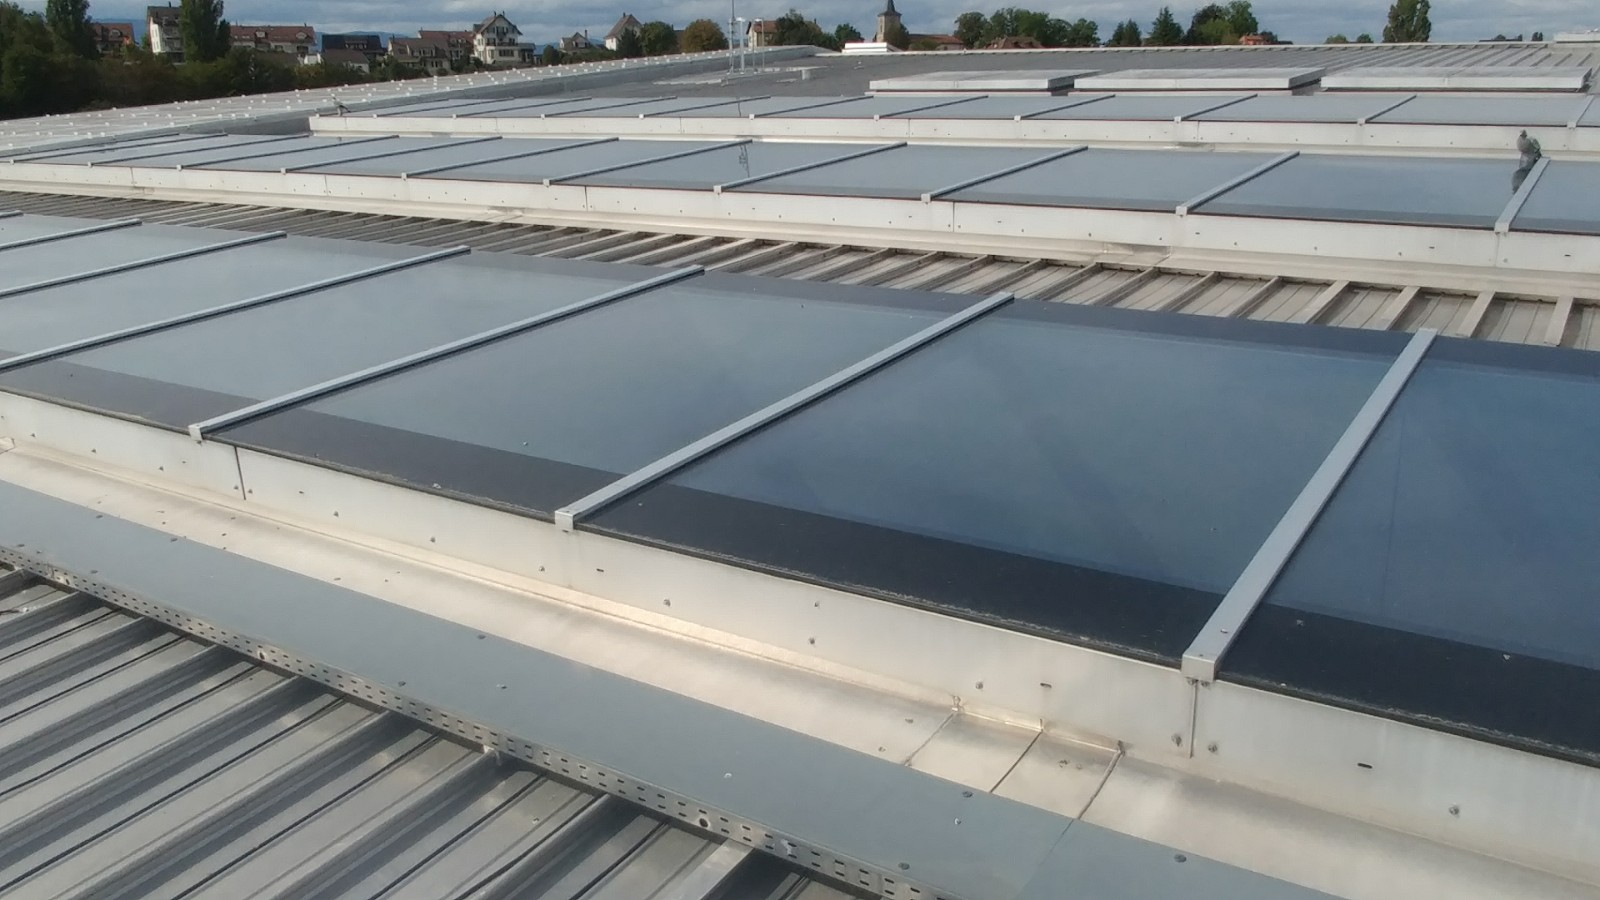Pigeon: (1510, 127, 1551, 166), (327, 96, 353, 115)
